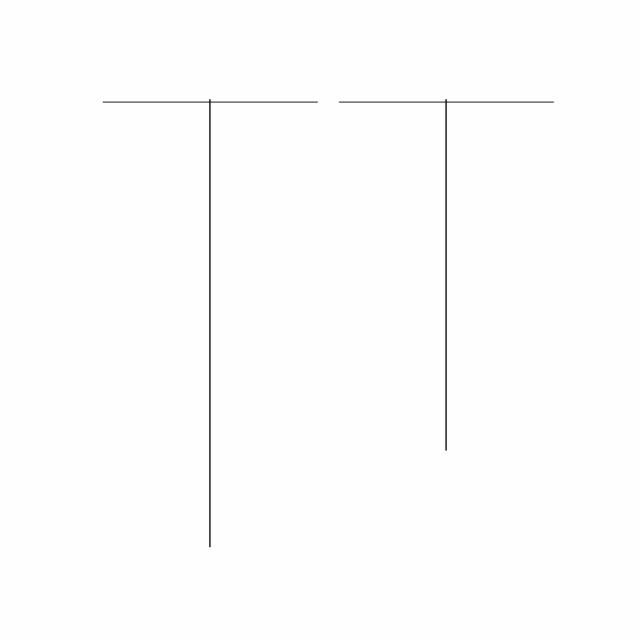Hammer: (328, 96, 566, 456)
